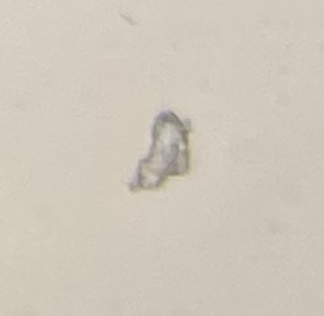microplastic: (122, 105, 200, 202)
